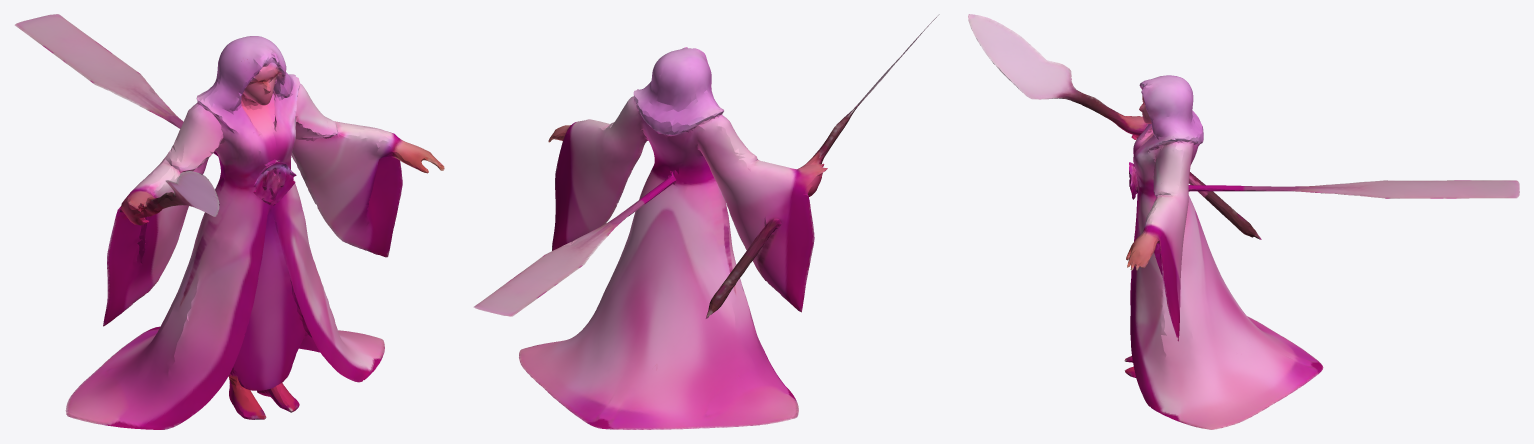
Rendered from elysian.glb.
3 renders of one model, left to right at view 1: azimuth 30°, elevation 25°; view 2: azimuth 150°, elevation 25°; view 3: azimuth 270°, elevation 25°, orthographic. The views are drawn at different scales.
Visible parts, largest first — view 1: ELYSIAN_Avatar; view 2: ELYSIAN_Avatar; view 3: ELYSIAN_Avatar.
Part boxes in pixels (bbox=[...]): ELYSIAN_Avatar: bbox=[14, 14, 444, 429]; ELYSIAN_Avatar: bbox=[473, 14, 939, 429]; ELYSIAN_Avatar: bbox=[968, 14, 1519, 429].
Size of the model in its own units: 1.09 by 1.09 by 1.89.
Materials: 1 (1 with a texture image).
